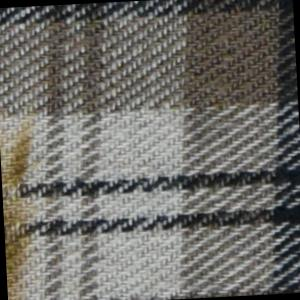Oil Stain: (1, 114, 53, 300)
